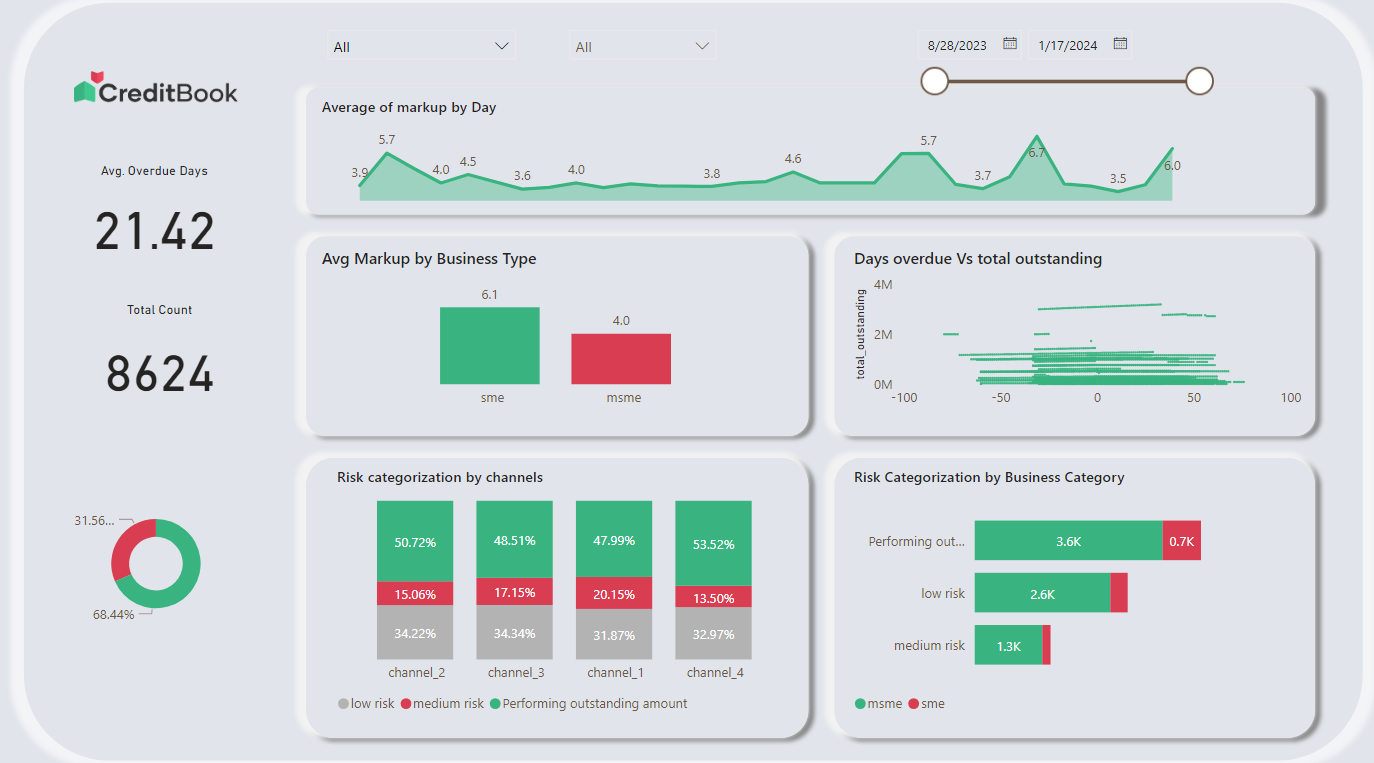

The dashboard page shown, as its layout file describes it:
{"tool":"powerbi","page":{"name":"Credit_book","canvas":[1280,720],"ordinal":0},"visuals":[{"type":"columnChart","title":"Avg Markup by Business Type","fields":{"Y":["Avg(Final.markup)"],"Category":["Final.business_type"]},"box":[297.9,233.8,445.8,157.7],"z":0},{"type":"scatterChart","title":"Days overdue Vs total outstanding","fields":{"X":["Final.overdue_in_days"],"Y":["Final.total_outstanding"]},"box":[788.3,233.8,421.9,157.7],"z":1000},{"type":"hundredPercentStackedColumnChart","title":"Risk categorization by channels","fields":{"Category":["Final.channel"],"Y":["CountNonNull(Final.risk_status)"],"Series":["Final.risk_status"]},"box":[312.1,436,431.7,237],"z":2000},{"type":"card","title":"Avg. Days","fields":{"Values":["Avg(Final.ABSOLUTE)"]},"box":[76.3,156.6,145.2,99],"z":3000},{"type":"barChart","title":"Risk Categorization by Business Category","fields":{"Y":["CountNonNull(Final.business_type)"],"Category":["Final.risk_status"],"Series":["Final.business_type"]},"box":[788.3,436,413.2,237],"z":4000},{"type":"areaChart","fields":{"Category":["Final.due_date.Variation.Date Hierarchy.Day"],"Y":["Avg(Final.markup)"]},"box":[297.9,95.7,903.6,101.1],"z":5000},{"type":"card","title":"Total Count","fields":{"Values":["CountNonNull(Final.unique_id)"]},"box":[77.7,284.6,150.7,106.7],"z":6000},{"type":"image","box":[69.3,46.2,160.6,81.4],"z":7000},{"type":"donutChart","fields":{"Y":["Sum(Final.total_outstanding)"],"Category":["Final.business_type"]},"box":[69.6,405.6,160.9,240.3],"z":8000},{"type":"slicer","fields":{"Values":["Final.business_type"]},"box":[520.8,23.9,155.5,42.4],"z":9000},{"type":"slicer","fields":{"Values":["Final.risk_status"]},"box":[297.9,23.9,193.5,42.4],"z":10000},{"type":"slicer","fields":{"Values":["Final.date"]},"box":[839.4,23.9,293.6,78.3],"z":11000}]}

Visuals, with their boxes in screenshot pixels (x1, y1, x2, y2), scaled from the page's 1280x720 canvas onto the 1374x763 screenshot:
"Avg Markup by Business Type" columnChart: crop(320, 248, 798, 415)
"Days overdue Vs total outstanding" scatterChart: crop(846, 248, 1299, 415)
"Risk categorization by channels" hundredPercentStackedColumnChart: crop(335, 462, 798, 713)
"Avg. Days" card: crop(82, 166, 238, 271)
"Risk Categorization by Business Category" barChart: crop(846, 462, 1290, 713)
areaChart - Final.due_date.Variation.Date Hierarchy.Day x Avg(Final.markup): crop(320, 101, 1290, 209)
"Total Count" card: crop(83, 302, 245, 415)
image: crop(74, 49, 247, 135)
donutChart - Sum(Final.total_outstanding) x Final.business_type: crop(75, 430, 247, 684)
slicer - Final.business_type: crop(559, 25, 726, 70)
slicer - Final.risk_status: crop(320, 25, 527, 70)
slicer - Final.date: crop(901, 25, 1216, 108)
